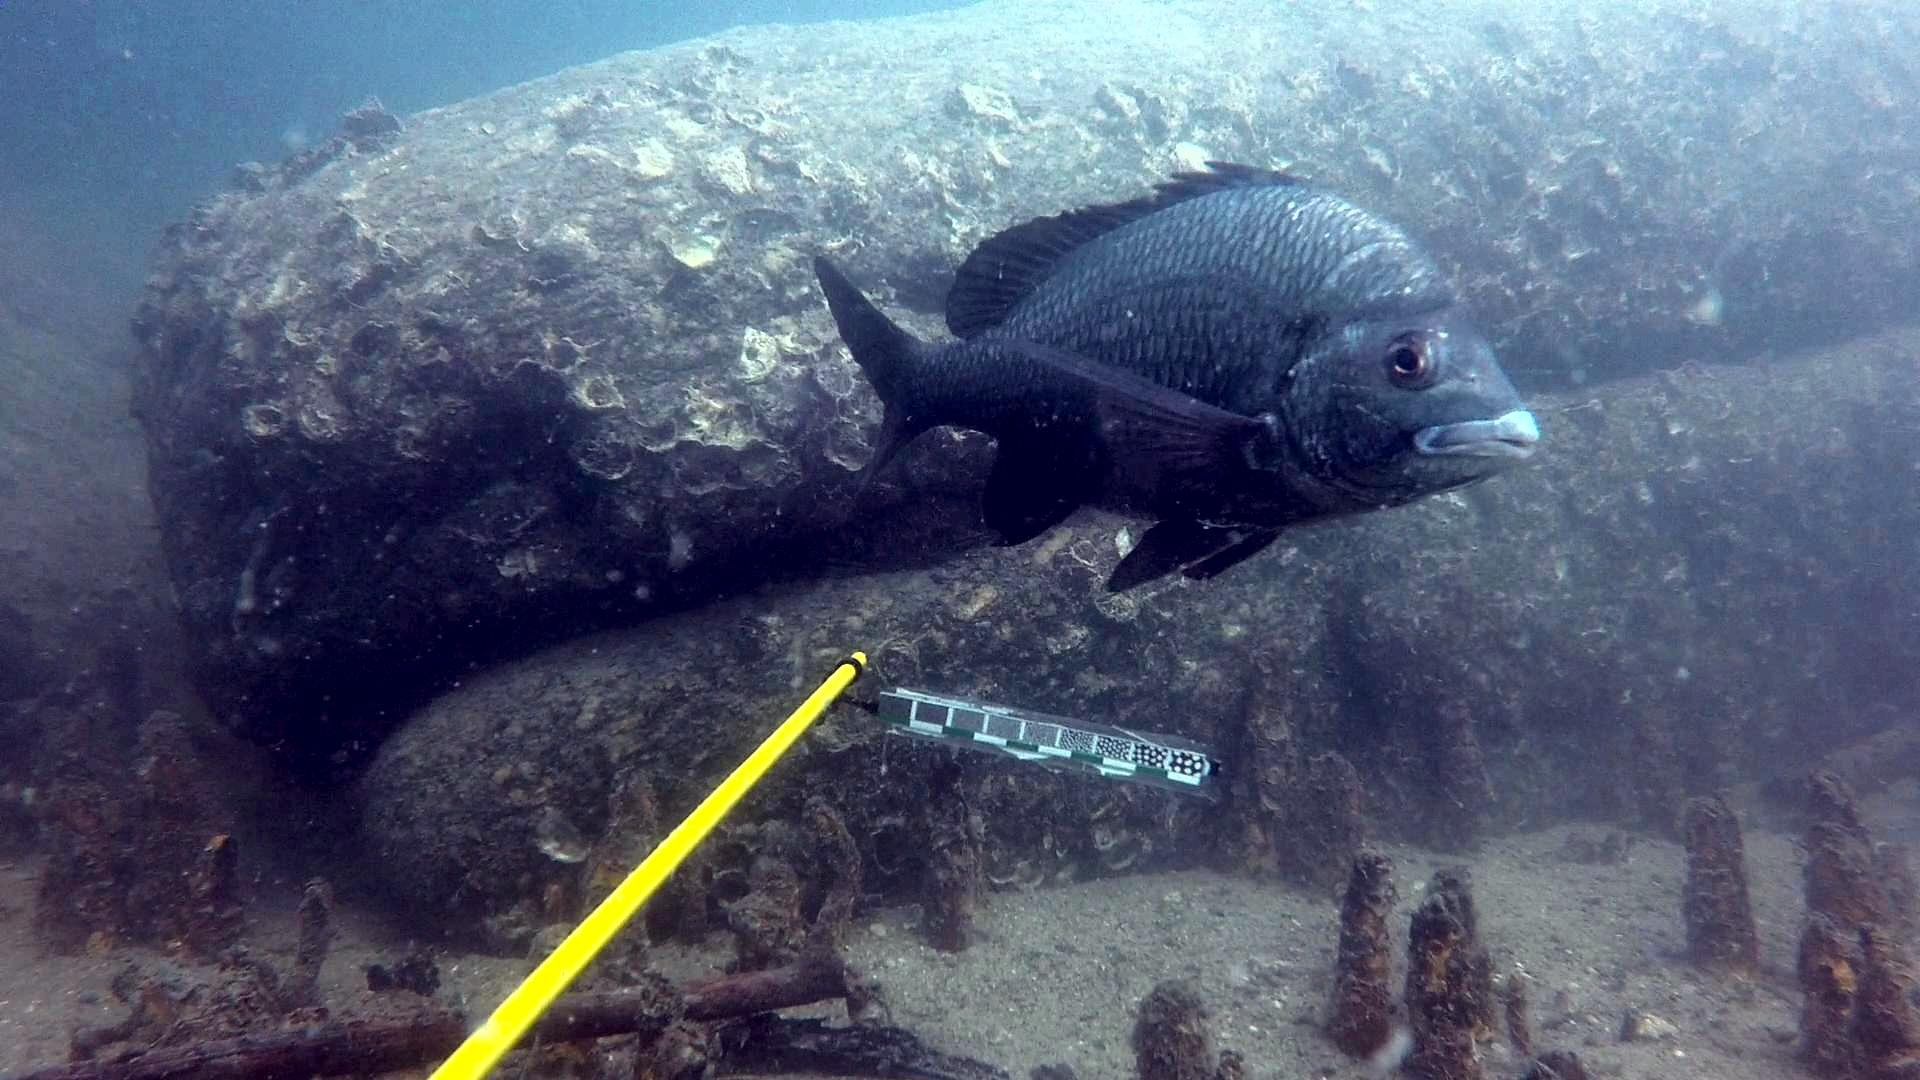acanthopagrus palmaris: (808, 156, 1562, 600)
